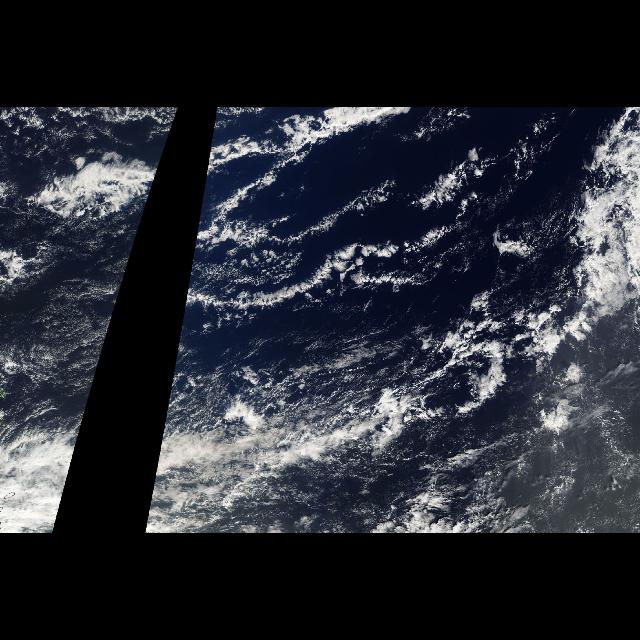Sugar: (453, 368, 639, 532), (5, 215, 143, 392)
